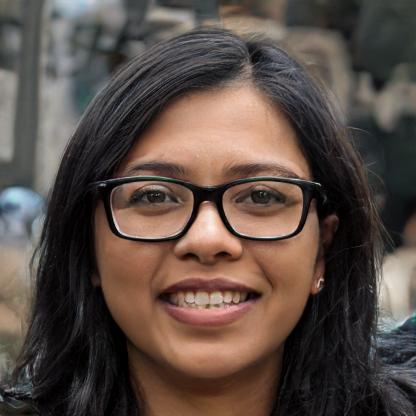glasses: (101, 170, 318, 247)
